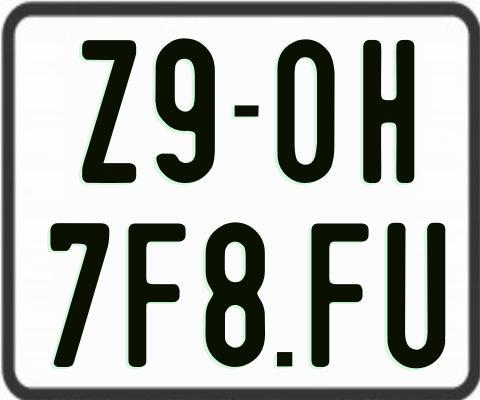0: (275, 38, 337, 182)
7: (49, 221, 114, 369)
8: (202, 219, 266, 367)
9: (155, 37, 217, 184)
F: (311, 221, 372, 365), (128, 221, 186, 364)
H: (361, 37, 416, 186)
U: (386, 220, 446, 370)
Z: (79, 37, 134, 184)
